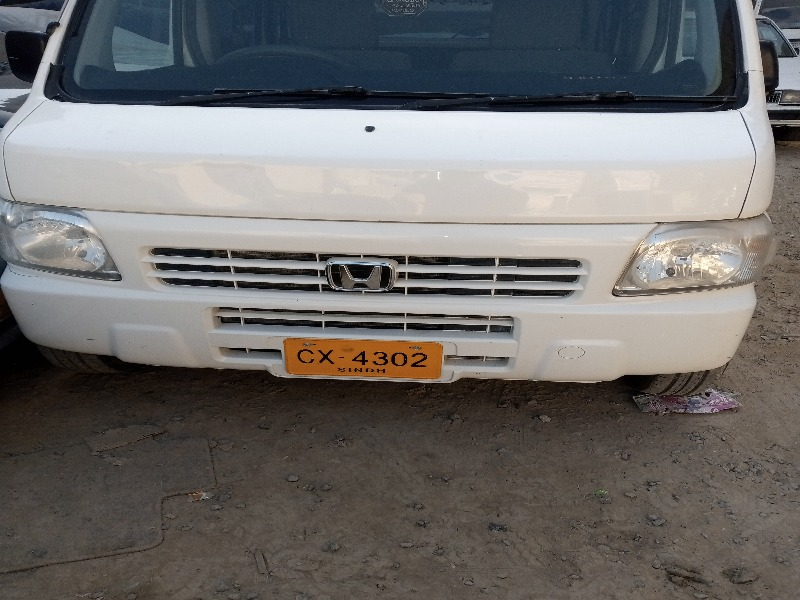License Plate: (281, 335, 446, 385)
